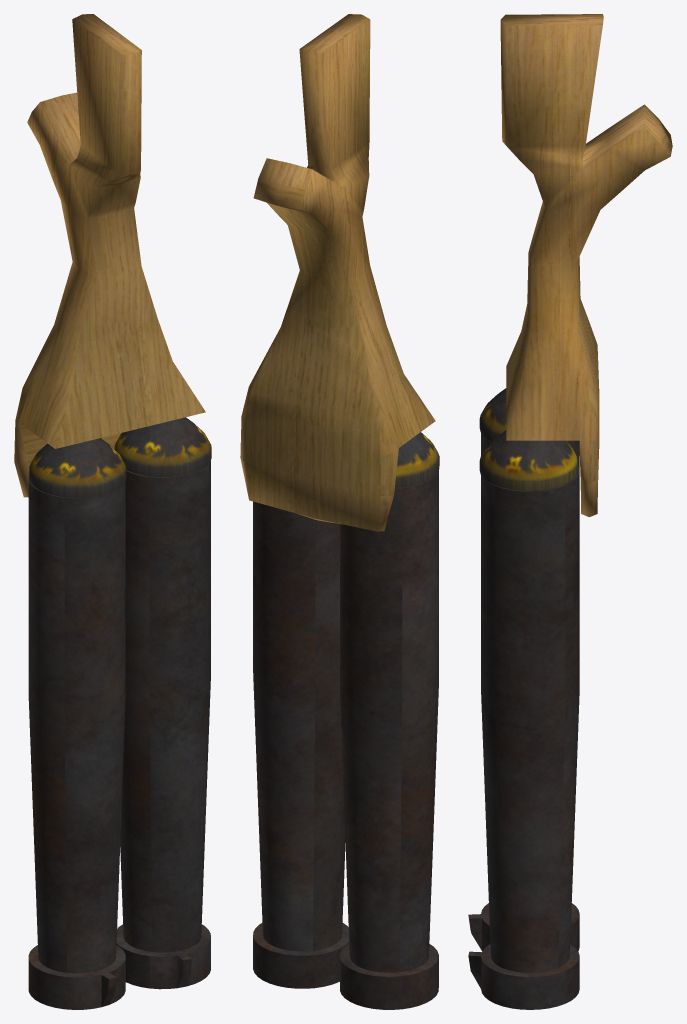
File: shotgun_000025.obj
3 renders of one model, left to right at view 1: azimuth 30°, elevation 25°; view 2: azimuth 150°, elevation 25°; view 3: azimuth 270°, elevation 25°, orthographic.
Visible parts, largest first — view 1: Cylinder, Cylinder.001_Cylinder.002; view 2: Cylinder, Cylinder.001_Cylinder.002; view 3: Cylinder, Cylinder.001_Cylinder.002.
Part boxes in pixels (x1,y1,x2,y2): Cylinder: (28, 460, 210, 1009); Cylinder.001_Cylinder.002: (14, 14, 211, 497); Cylinder: (253, 470, 438, 1009); Cylinder.001_Cylinder.002: (240, 14, 439, 531); Cylinder: (468, 433, 579, 1009); Cylinder.001_Cylinder.002: (479, 14, 672, 517).
Bounding box in the file's own units: 2.01 × 10.63 × 2.07.
Materials: 2 (2 with a texture image).
